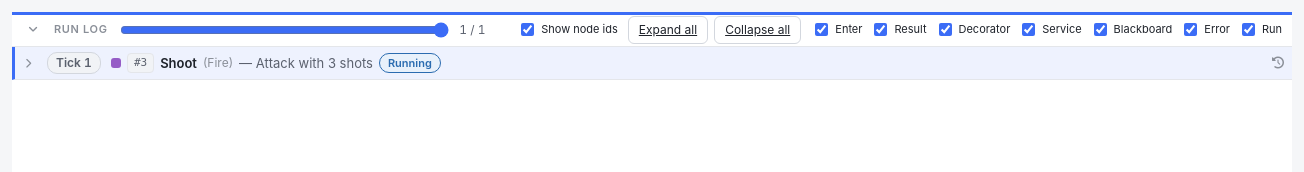
Test: run log ids and descriptions › prefixes detail lines with ids and shows the description on enter lines
The image size is (1304, 172).
Click the button "Tick 1" at (74, 63), box [15, 47, 1264, 79]
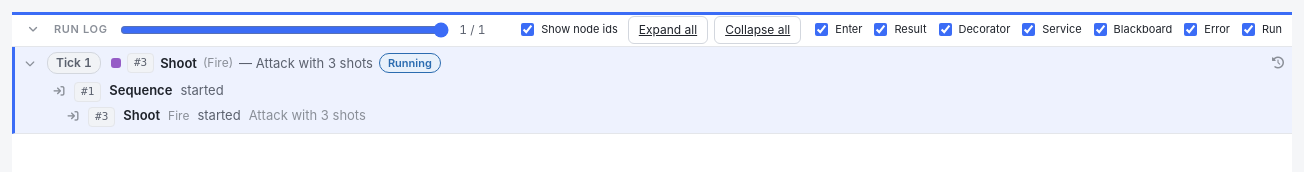
expect the text with test id "trace-id" reads "#3": met, box [127, 53, 154, 73]
expect the text with test id "trace-id" reads "#1": met, box [74, 82, 101, 102]
expect the elements with test id "trace-desc" read "Attack with 3 shots", in this order: met, box [249, 106, 366, 125]
